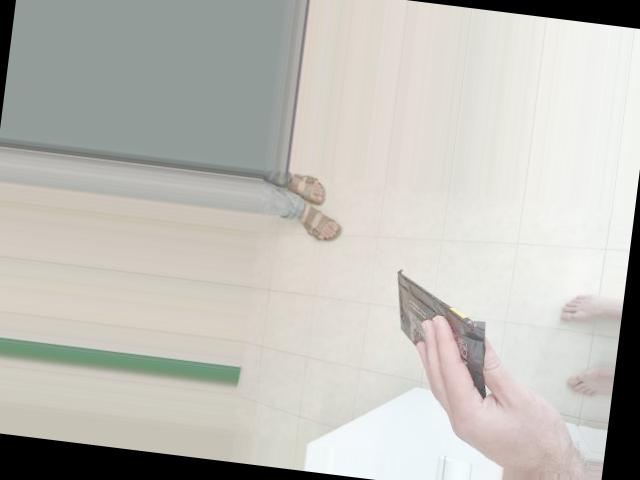chocolate: (331, 187, 485, 321)
